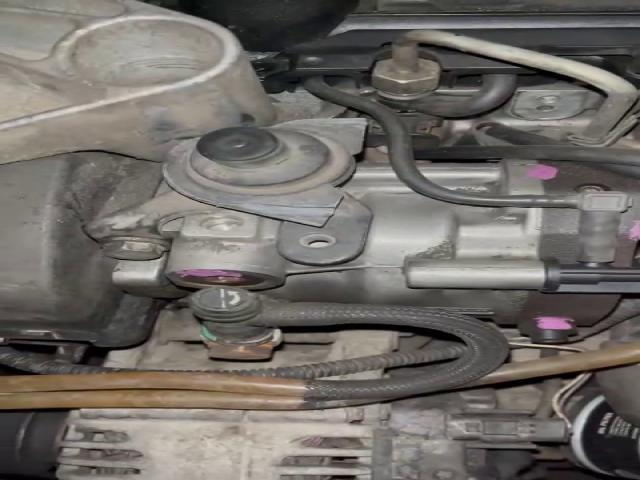alternator: (57, 404, 386, 480)
high_pressure_pump: (115, 165, 638, 343), (424, 159, 576, 194)
